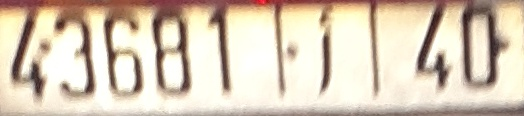0: (457, 3, 502, 90)
1: (207, 6, 236, 95)
3: (52, 10, 96, 103)
4: (415, 2, 455, 95), (9, 11, 49, 103)
6: (103, 9, 143, 101)
8: (150, 8, 194, 99)
a: (311, 5, 339, 97)
